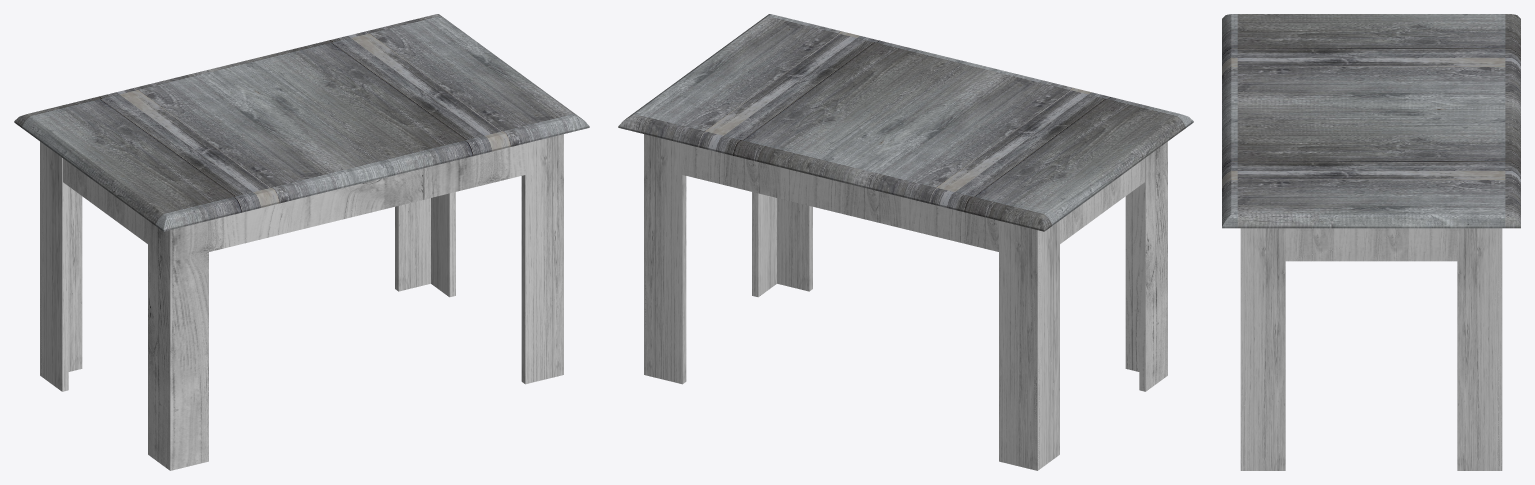
The model's file is table.gltf.
3 views of the same model, side by side, from view 1: azimuth 30°, elevation 25°; view 2: azimuth 150°, elevation 25°; view 3: azimuth 270°, elevation 25° (orthographic).
Parts seen in each view (by area): view 1: z, Box005, Box006, Box008, Box002, Box004, Box010; view 2: z, Box002, Box004, Box007, Box005, Box006, Box010; view 3: z, Box004, Box006, Box009.
Boxes of the visible parts, <box> form: z: <box>14,14,589,231</box>; Box005: <box>148,220,208,470</box>; Box006: <box>521,134,563,384</box>; Box008: <box>209,143,525,251</box>; Box002: <box>40,141,82,391</box>; Box004: <box>395,192,455,297</box>; Box010: <box>63,158,147,243</box>; z: <box>618,14,1193,231</box>; Box002: <box>999,220,1059,470</box>; Box004: <box>644,134,686,384</box>; Box007: <box>682,143,998,251</box>; Box005: <box>1125,141,1167,391</box>; Box006: <box>752,192,812,297</box>; Box010: <box>1060,158,1144,243</box>; z: <box>1222,14,1520,228</box>; Box004: <box>1457,228,1502,470</box>; Box006: <box>1240,228,1285,470</box>; Box009: <box>1285,228,1457,261</box>.
Bounding box in the file's own units: 1.32 × 0.77 × 0.8.
Materials: 2 (2 with a texture image).
